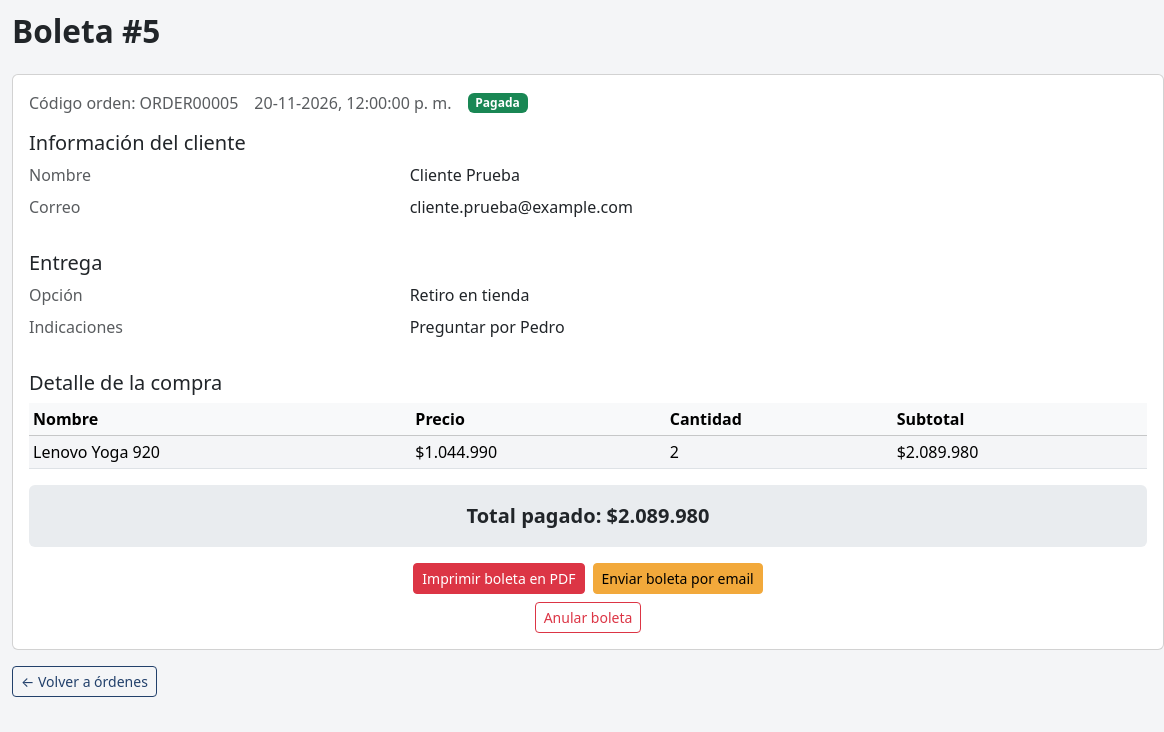
Test case: Vista AdminBoleta › el administrador anula una boleta pagada y la pantalla pasa a "Anulada"
Expected: the heading "Boleta #5" is shown, left=12, top=12, right=160, bottom=50
Expected: the text "Pagada" is shown, left=468, top=93, right=528, bottom=113
Click the button "Anular boleta".
click(588, 617)  # box left=535, top=602, right=641, bottom=633
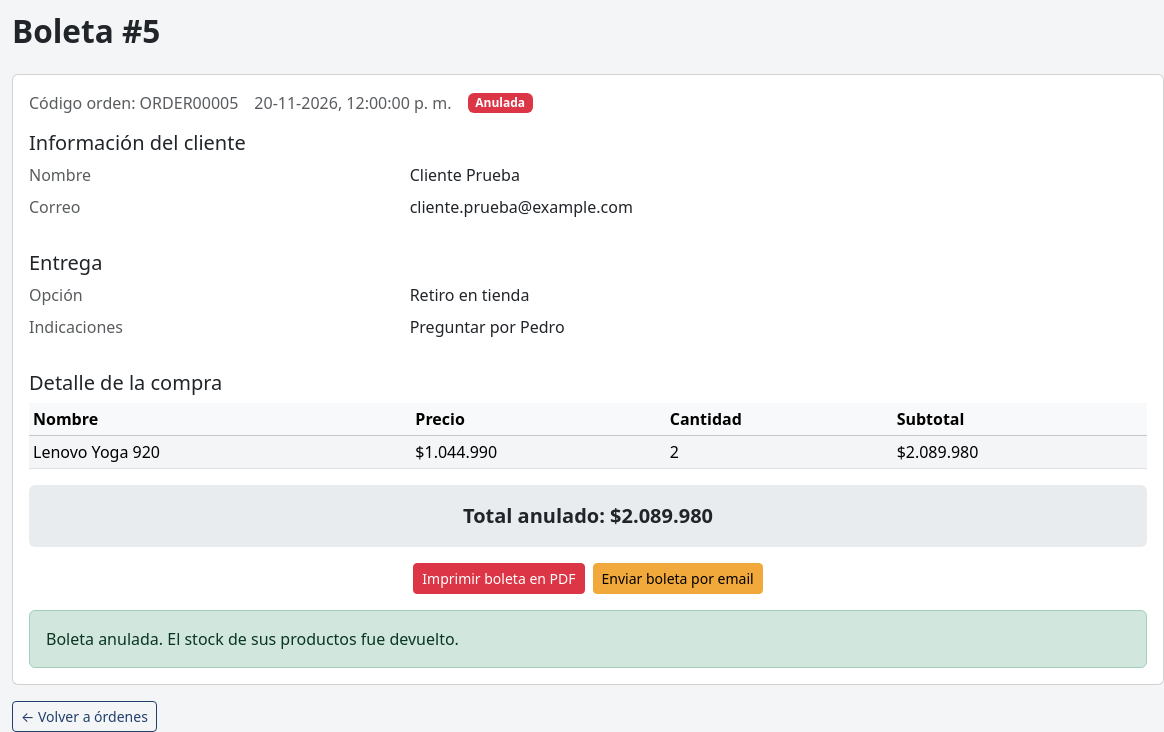
Expected: the text "Boleta anulada. El stock de sus productos fue devuelto." is shown, left=29, top=610, right=1147, bottom=668
Expected: the text "Anulada" is shown, left=468, top=93, right=533, bottom=113
Expected: the text "Total anulado: $2.089.980" is shown, left=29, top=485, right=1147, bottom=547
